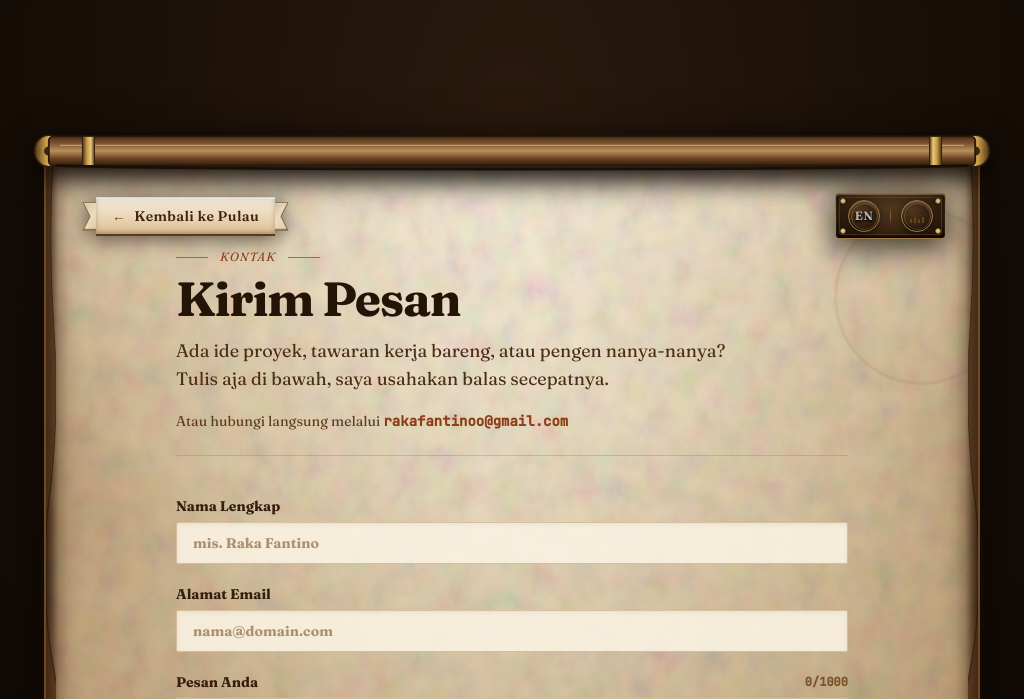
Test: Contact Page - Warm Editorial Dispatch Form › handles transmission failure gracefully with clear feedback
In the field labelled "Nama Lengkap": (512, 543) [176,522,848,564], type "Raka Tester"
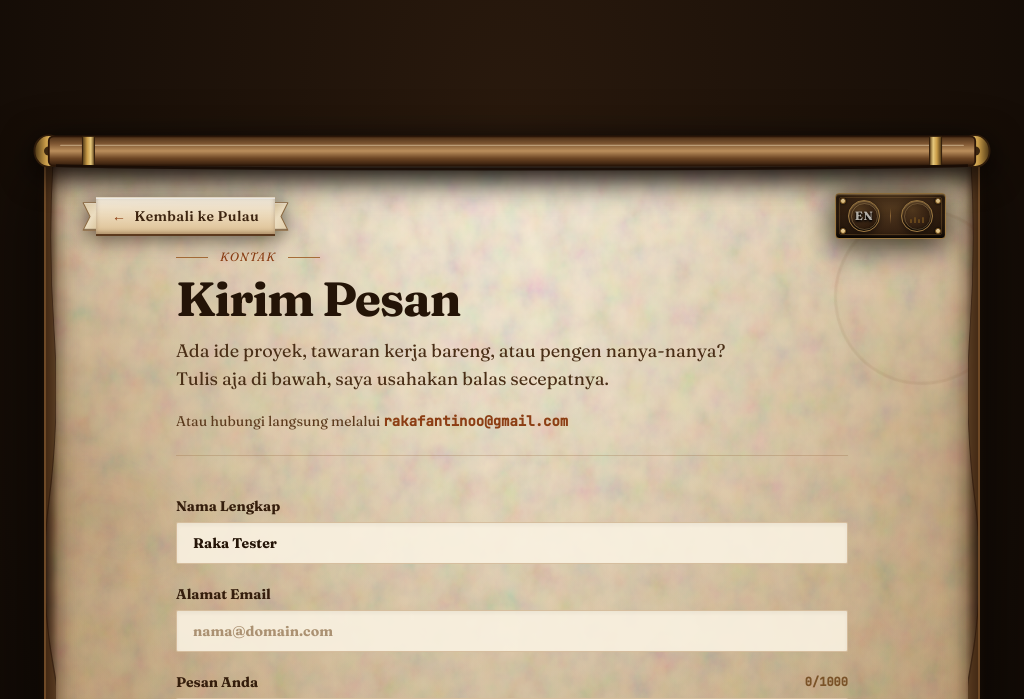
In the field labelled "Alamat Email": (512, 631) [176,610,848,652], type "raka@example.com"
(page scrolled)
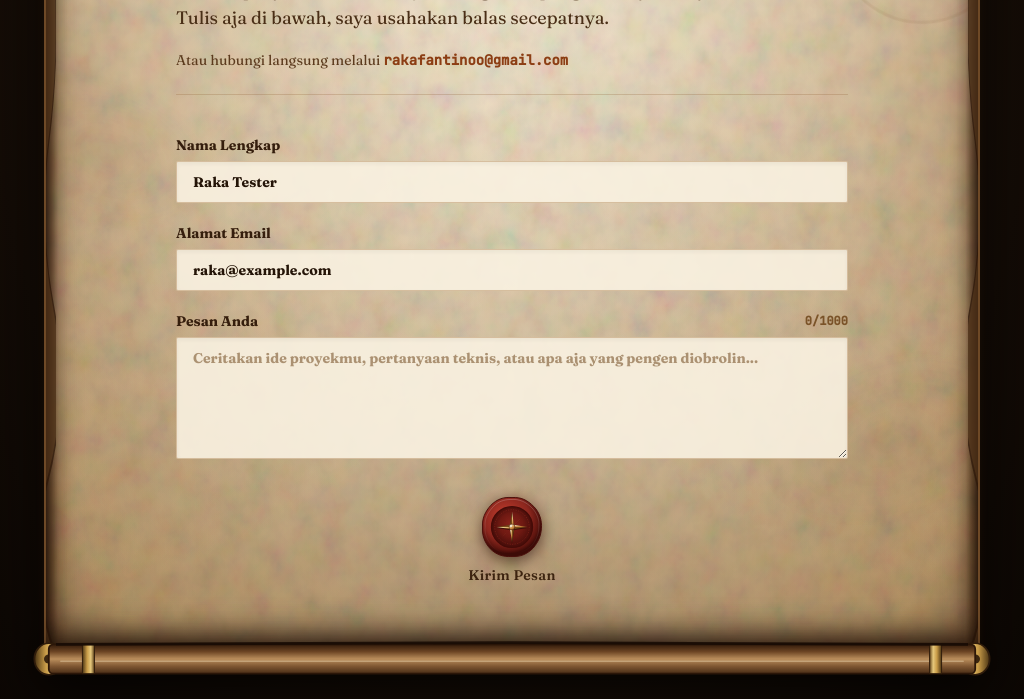
Replace the text in the text box labelled "Pesan Anda 0/1000" with "Valid message content": (512, 398) [176,337,848,459]
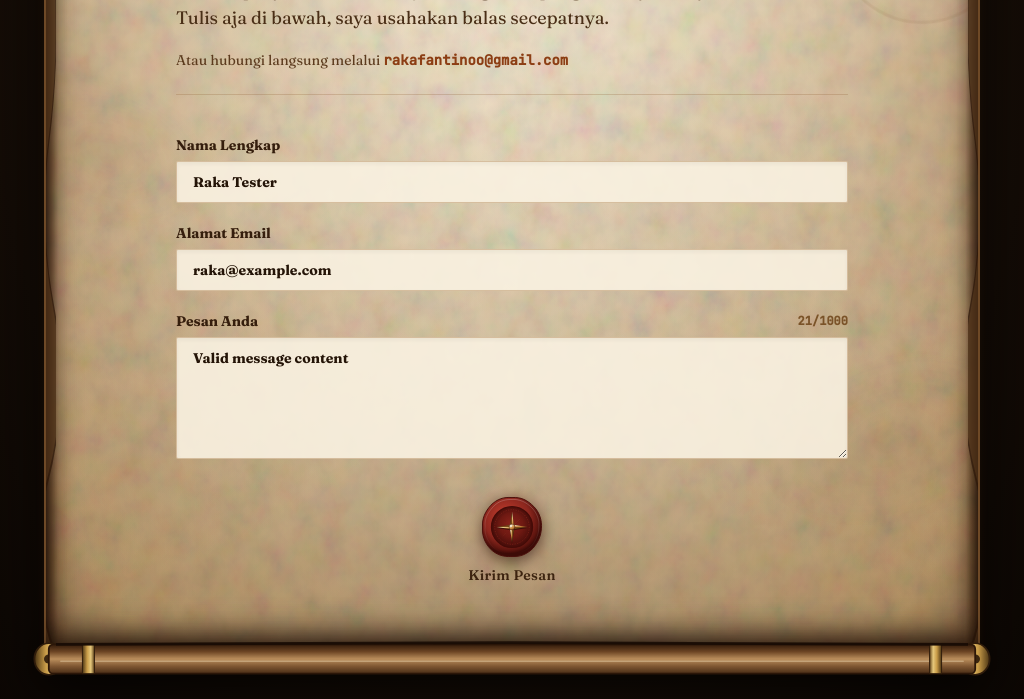
Click the button "Kirim Pesan": (512, 540) [468,495,556,585]
(page scrolled)
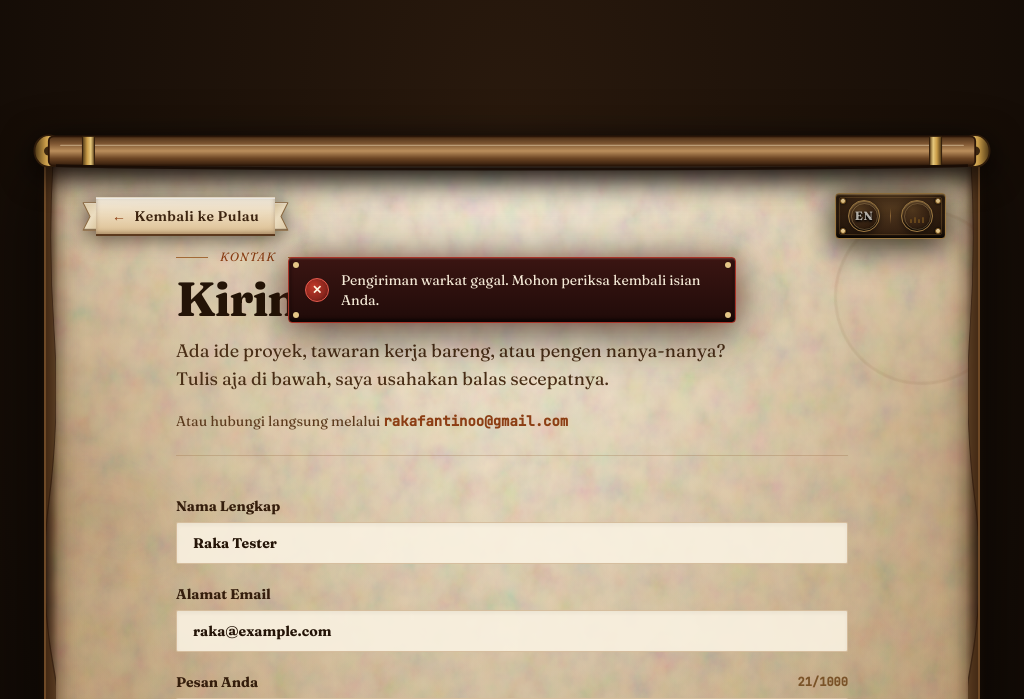
expect the text "Pengiriman warkat gagal. Mohon periksa kembali isian Anda." is shown: met, box [341,270,719,310]
